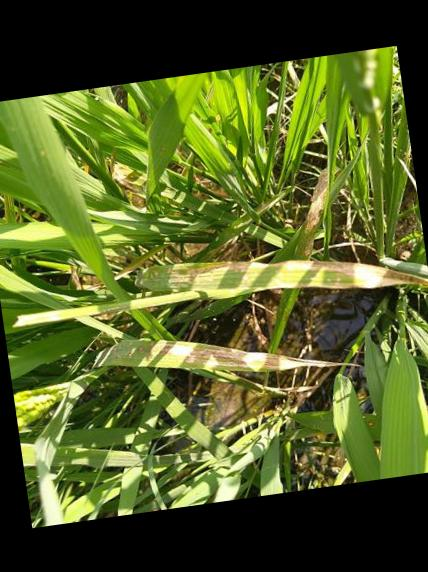Leaf Streak: (137, 258, 428, 291), (94, 338, 364, 371), (292, 167, 327, 255)
